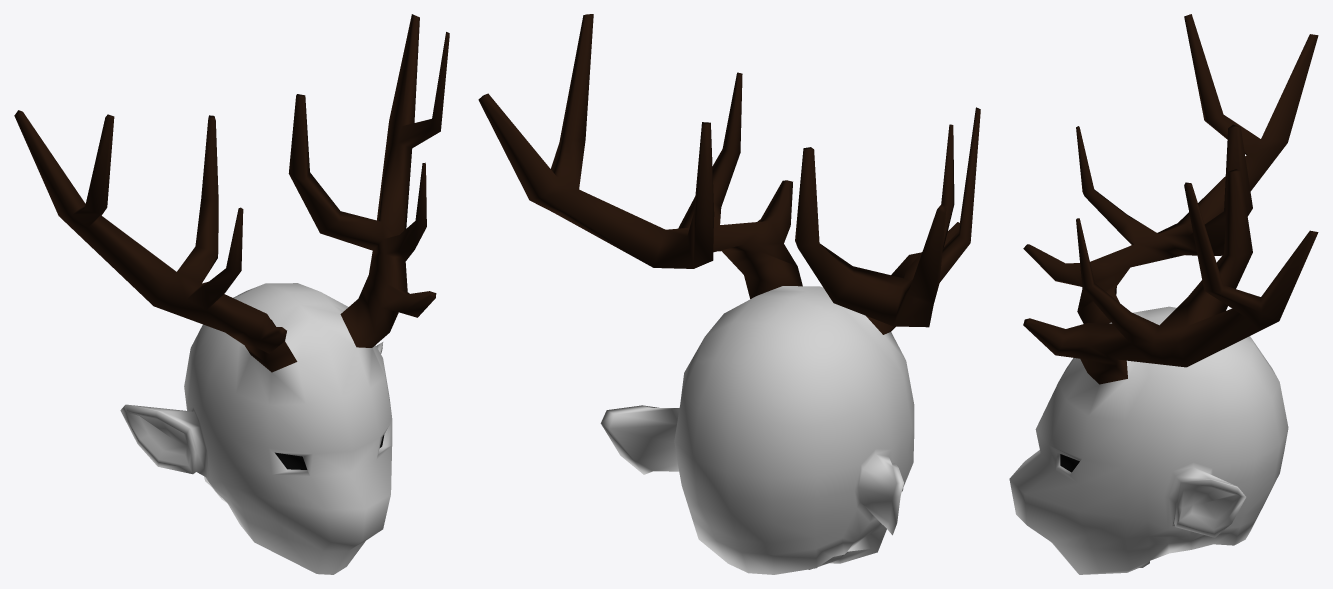
File: DearMaskPaintedOn.fbx
3 renders of one model, left to right at view 1: azimuth 30°, elevation 25°; view 2: azimuth 150°, elevation 25°; view 3: azimuth 270°, elevation 25°, orthographic. The views are drawn at different scales.
Parts seen in each view (by area): view 1: Mask_Deer (×2); view 2: Mask_Deer (×2); view 3: Mask_Deer (×2).
Boxes of the visible parts, x1,y1,x2,y2 form: Mask_Deer (×2): [14, 14, 449, 574]; Mask_Deer (×2): [478, 14, 980, 574]; Mask_Deer (×2): [1009, 14, 1318, 574].
Size of the model in its own units: 38.06 by 41.43 by 24.58.
